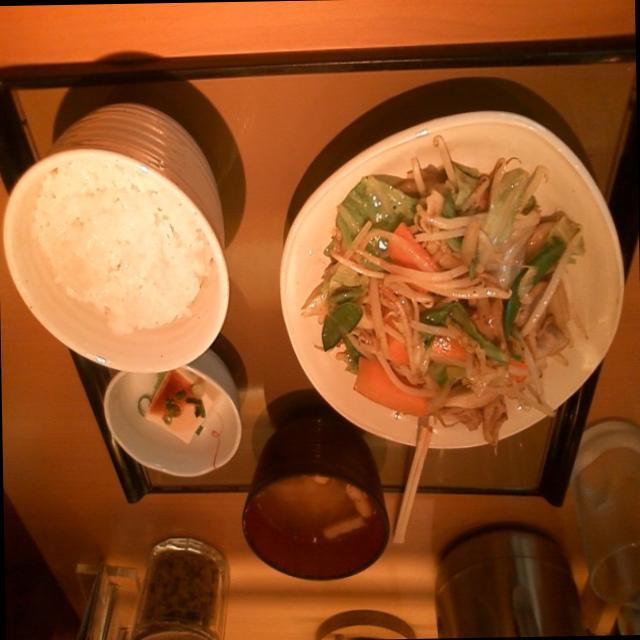Rice: (0, 96, 233, 378)
